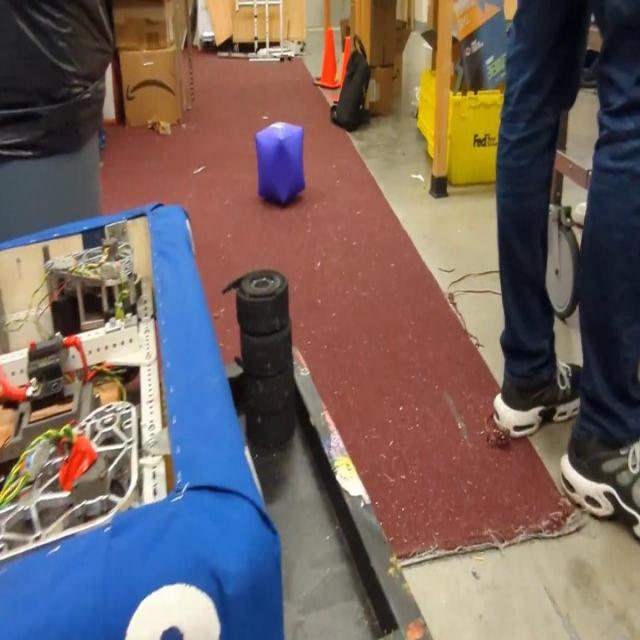frc_cube: (254, 119, 305, 208)
